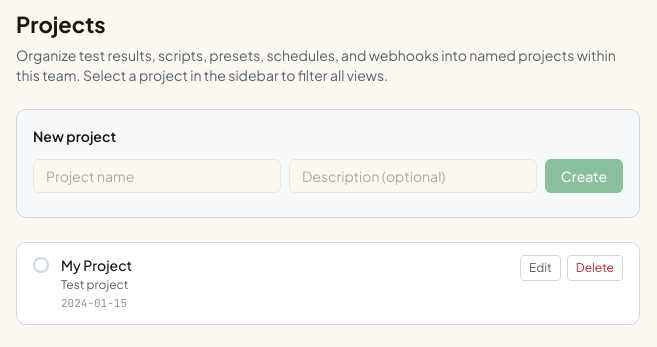
Scenario: WorkspacesPage — edit flow › cancels edit without saving
The width and height of the screenshot is (657, 347).
Click the button "Edit".
click(540, 268)  # box [520,255,561,281]
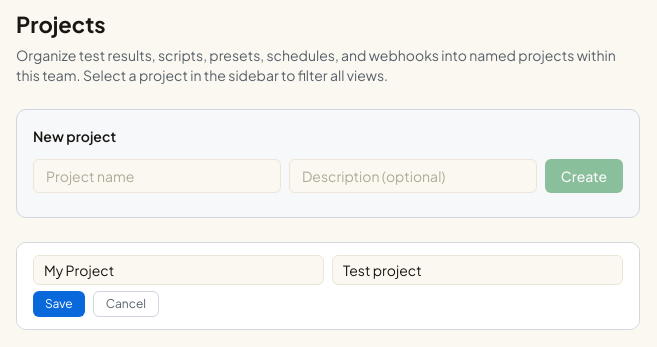
Click the button "Cancel".
click(126, 304)  # box [93,291,159,317]
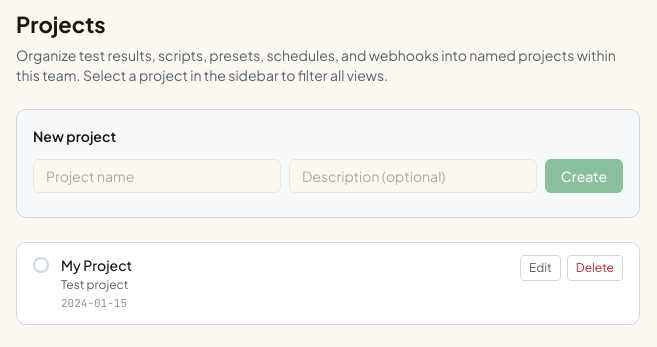
Now the text "My Project" is shown, box [61,255,132,275]
